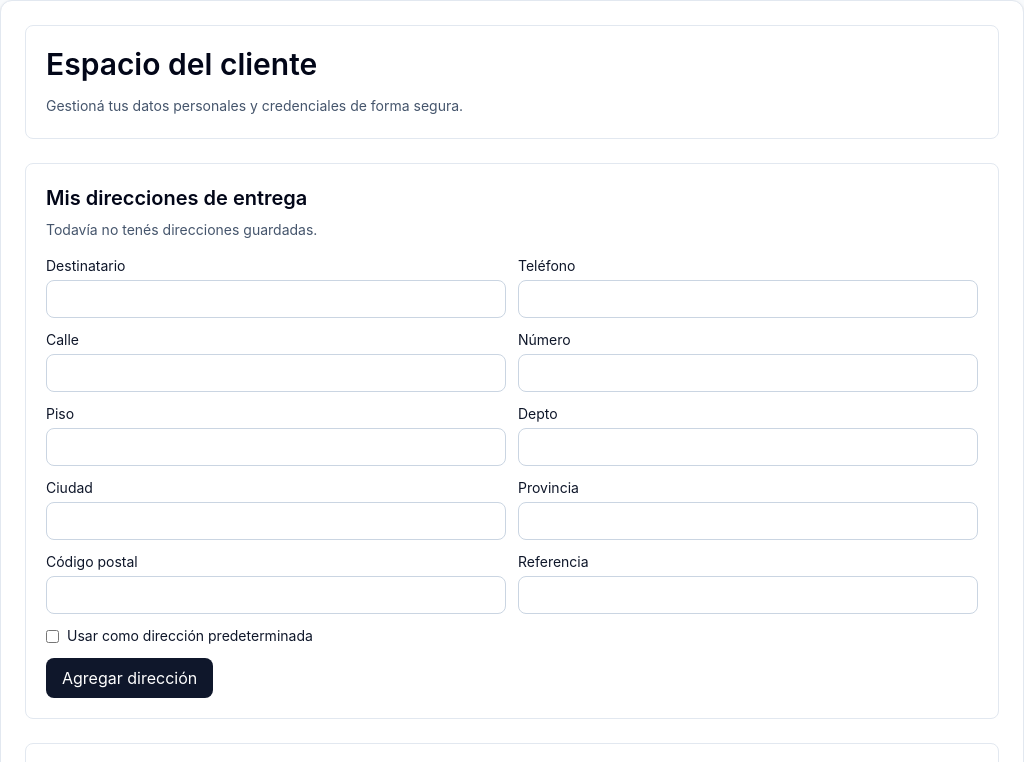
Test: AppPage customer profile and addresses › preserves address form on validation errors without sensitive leaks
Expected: the heading "Mis direcciones de entrega" is shown, [46, 186, 307, 210]
Type "X" into the field labelled "Destinatario" at (276, 299), box [46, 280, 506, 318]
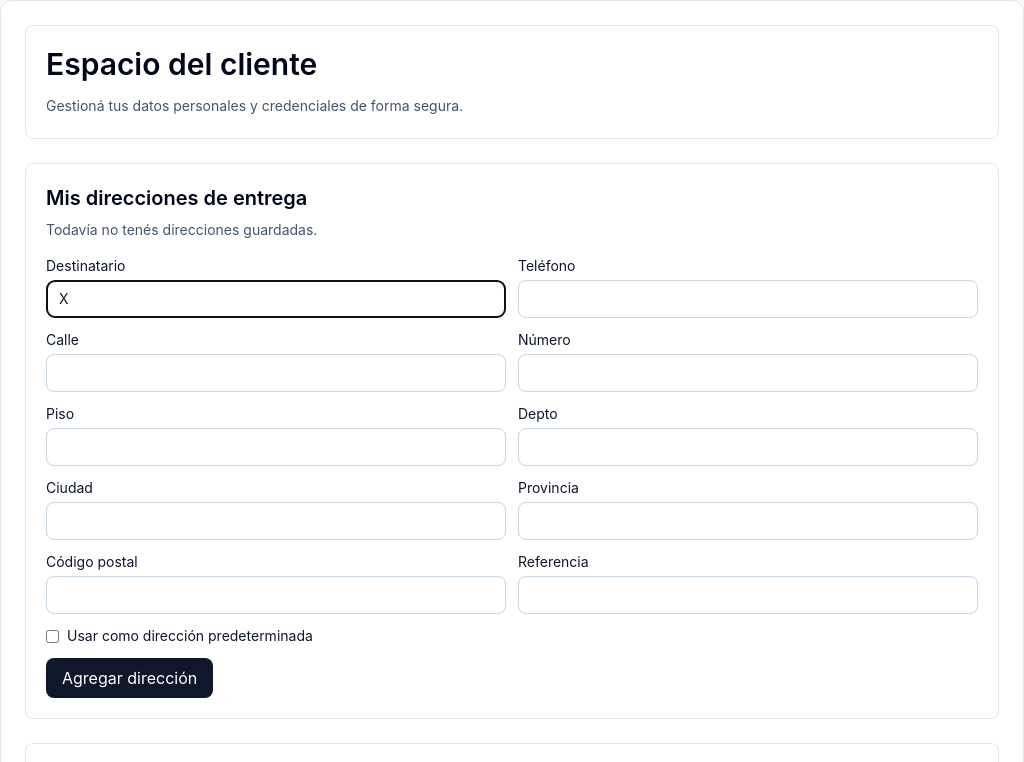
Clear the dropdown labelled "Provincia" at (748, 521), box [518, 502, 978, 540]
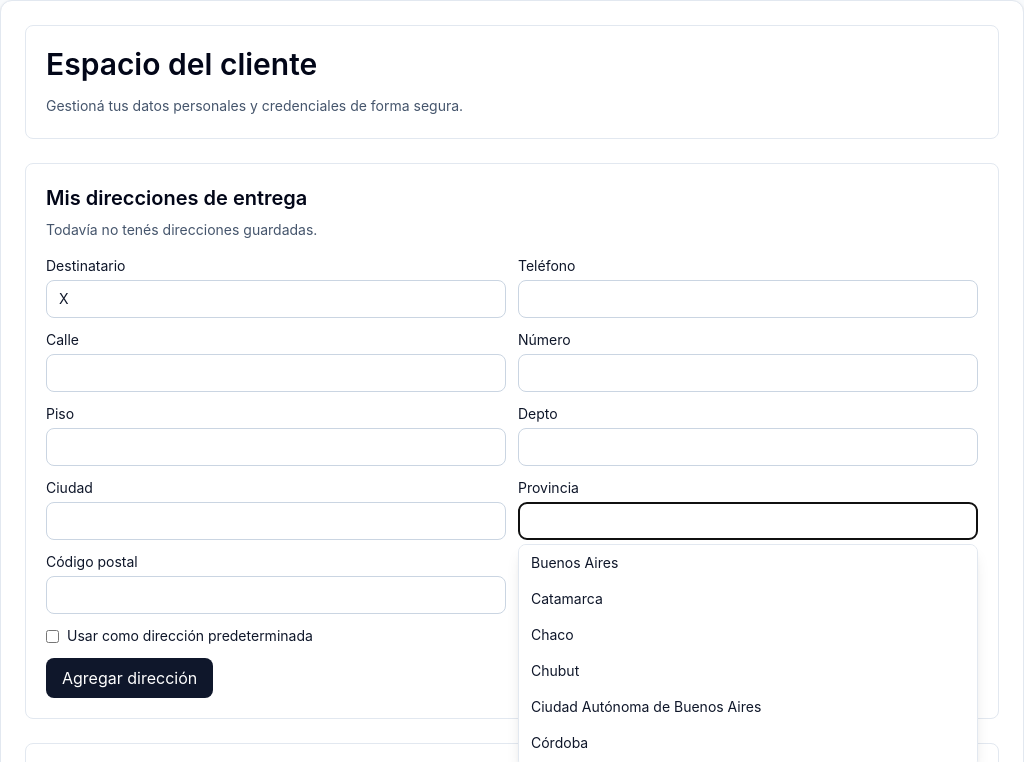
Type "Buenos" into the dropdown labelled "Provincia" at (748, 521), box [518, 502, 978, 540]
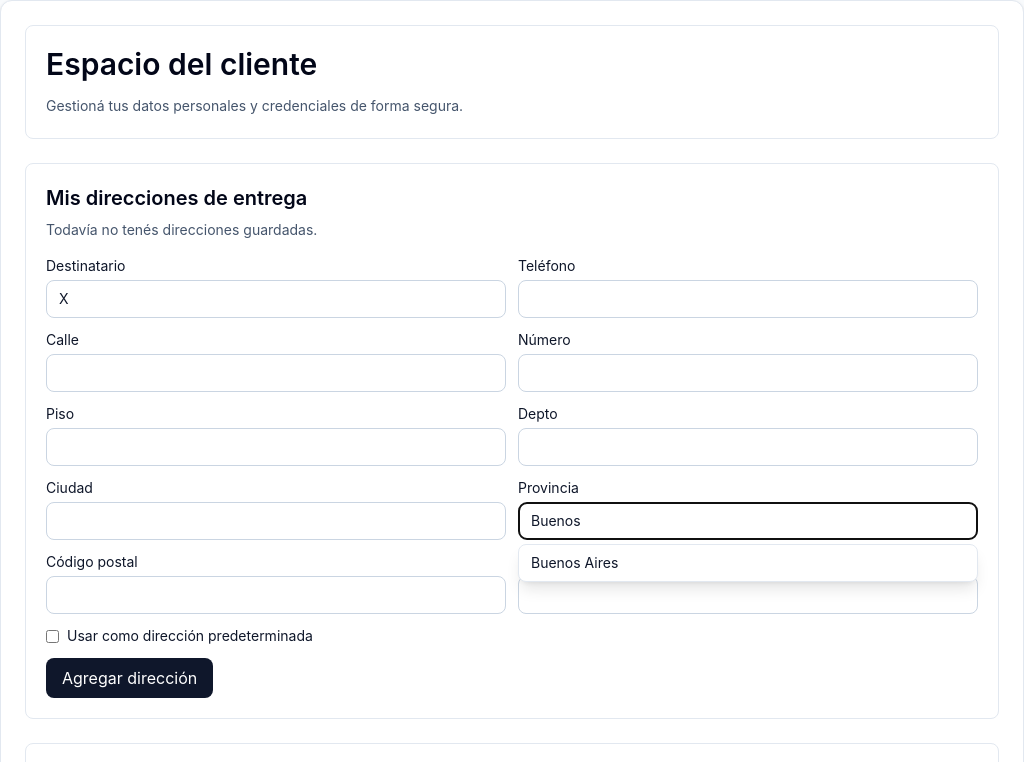
Click the option "Buenos Aires" at (575, 562), box [519, 545, 977, 581]
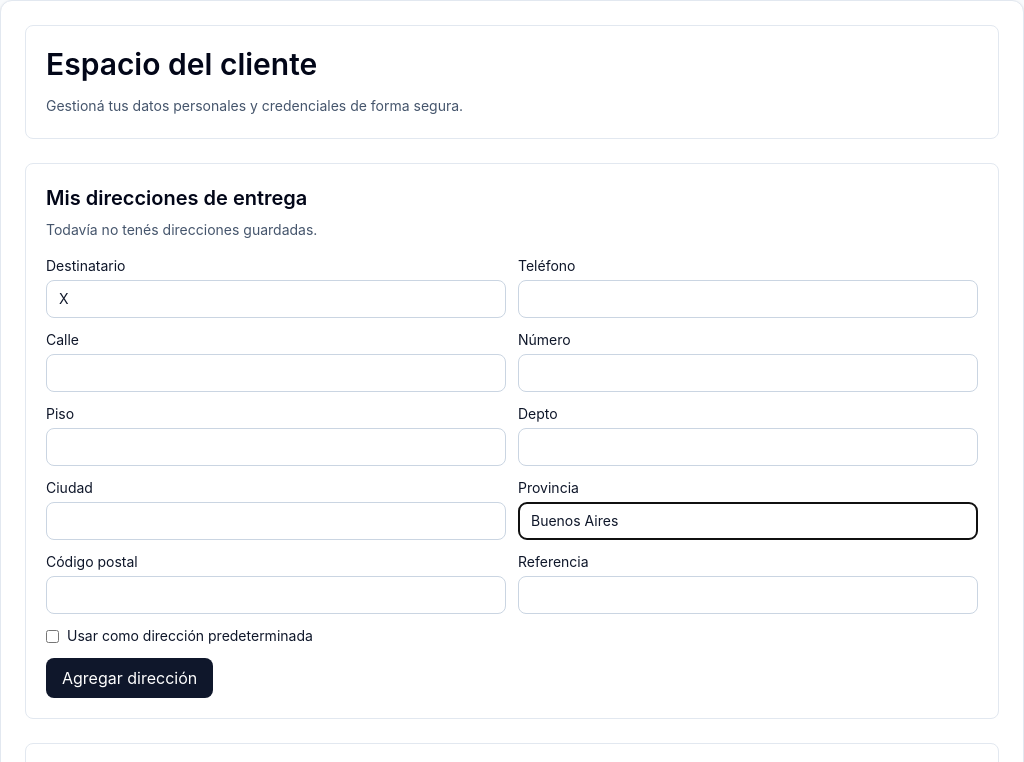
Click the button "Agregar dirección" at (130, 678), box [46, 658, 213, 698]
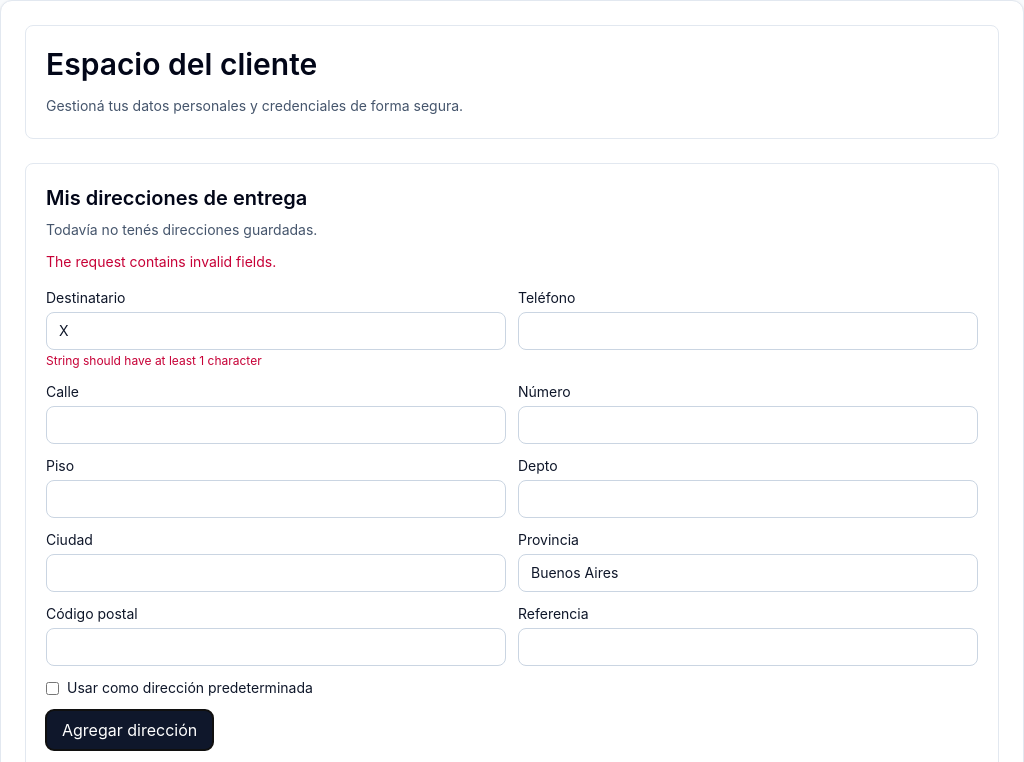
Now the message "The request contains invalid fields." is shown, box [46, 253, 276, 270]
